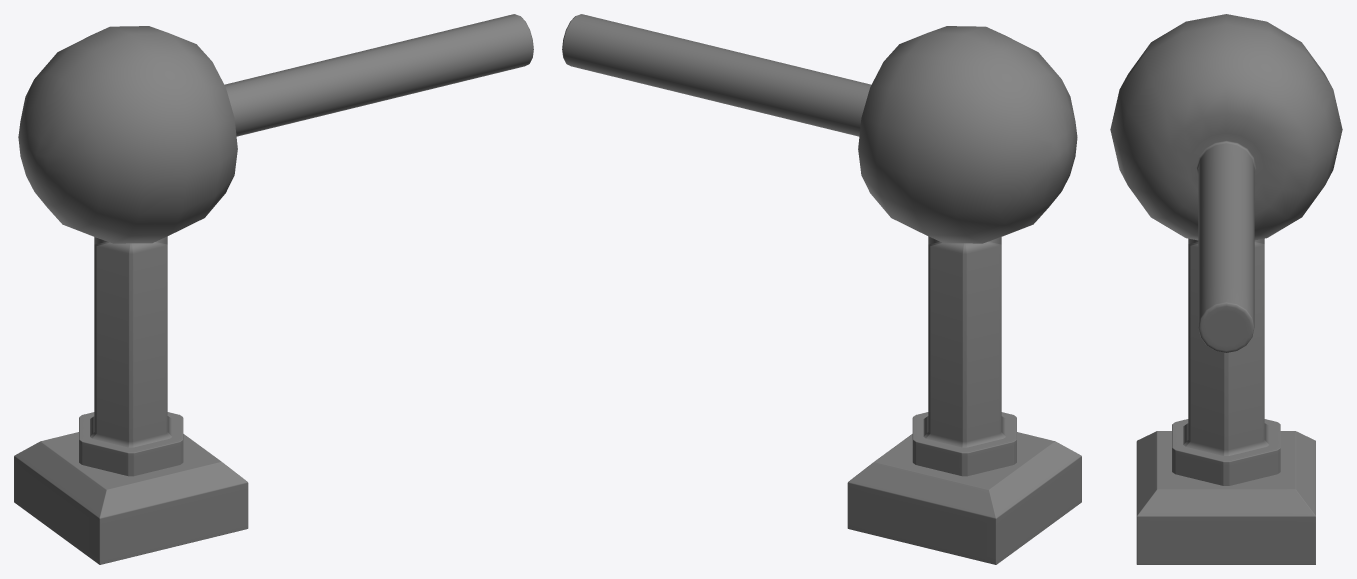
File: turret01.fbx
3 renders of one model, left to right at view 1: azimuth 30°, elevation 25°; view 2: azimuth 150°, elevation 25°; view 3: azimuth 270°, elevation 25°, orthographic. The views are drawn at different scales.
Visible parts, largest first — view 1: Sphere001, Box001, Object001, Gengon001; view 2: Sphere001, Box001, Object001, Gengon001; view 3: Sphere001, Box001, Object001, Gengon001.
Boxes of the visible parts, bbox=[...] form: Sphere001: bbox=[18, 14, 533, 243]; Box001: bbox=[14, 432, 248, 564]; Object001: bbox=[90, 236, 172, 447]; Gengon001: bbox=[79, 412, 183, 476]; Sphere001: bbox=[562, 14, 1077, 243]; Box001: bbox=[847, 432, 1081, 564]; Object001: bbox=[923, 236, 1005, 447]; Gengon001: bbox=[912, 412, 1016, 476]; Sphere001: bbox=[1110, 14, 1342, 352]; Box001: bbox=[1136, 431, 1315, 564]; Object001: bbox=[1183, 238, 1269, 455]; Gengon001: bbox=[1172, 419, 1280, 485].
Bounding box in the file's own units: 329 × 309 × 130.
